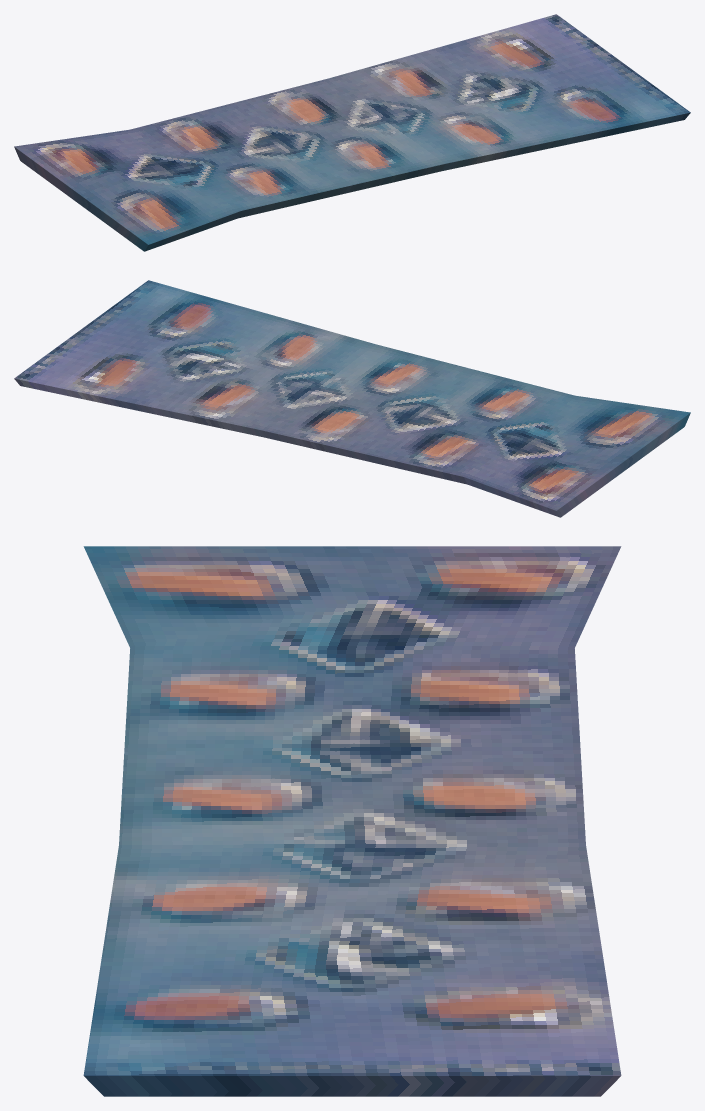
The model's file is pills_1.glb.
The picture shows the model from 3 angles, top to bottom: view 1: azimuth 30°, elevation 25°; view 2: azimuth 150°, elevation 25°; view 3: azimuth 270°, elevation 25°; orthographic projection. The views are drawn at different scales.
Parts seen in each view (by area): view 1: Pills_1; view 2: Pills_1; view 3: Pills_1.
Part boxes in pixels (x1=…): Pills_1: x1=14, y1=14, x2=690, y2=251; Pills_1: x1=14, y1=280, x2=690, y2=517; Pills_1: x1=83, y1=546, x2=621, y2=1096.
Size of the model in its own units: 0.334 by 0.0064 by 0.1434.
Materials: 1 (1 with a texture image).
